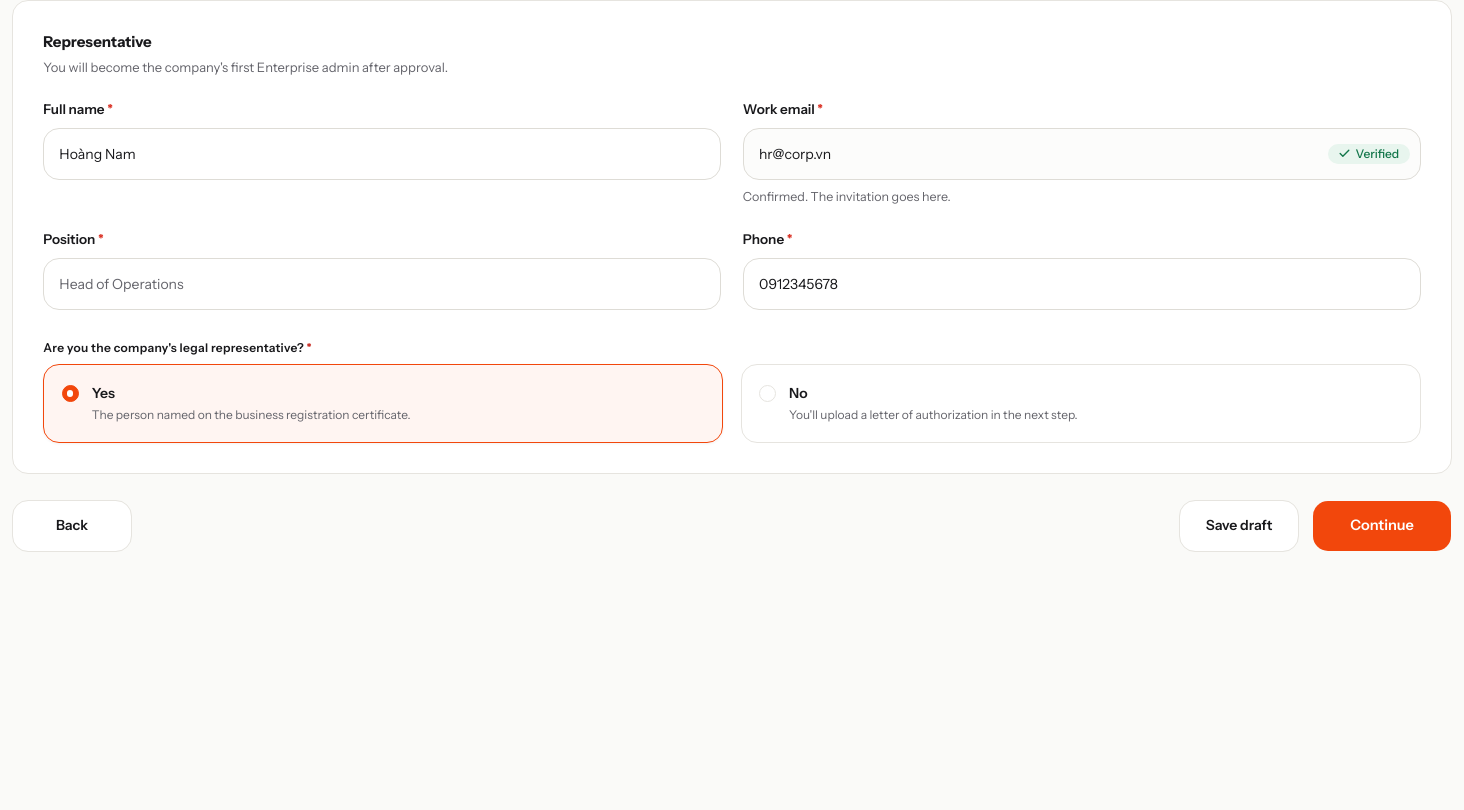
Test: Employer Registration Flow Components › Step2RepresentativeForm › toggles legal representative notice when selecting No card
Click No
Click the radio button labelled "No You'll upload a letter of authorization in the next step." at (933, 414), box x1=741 y1=364 x2=1421 y2=443
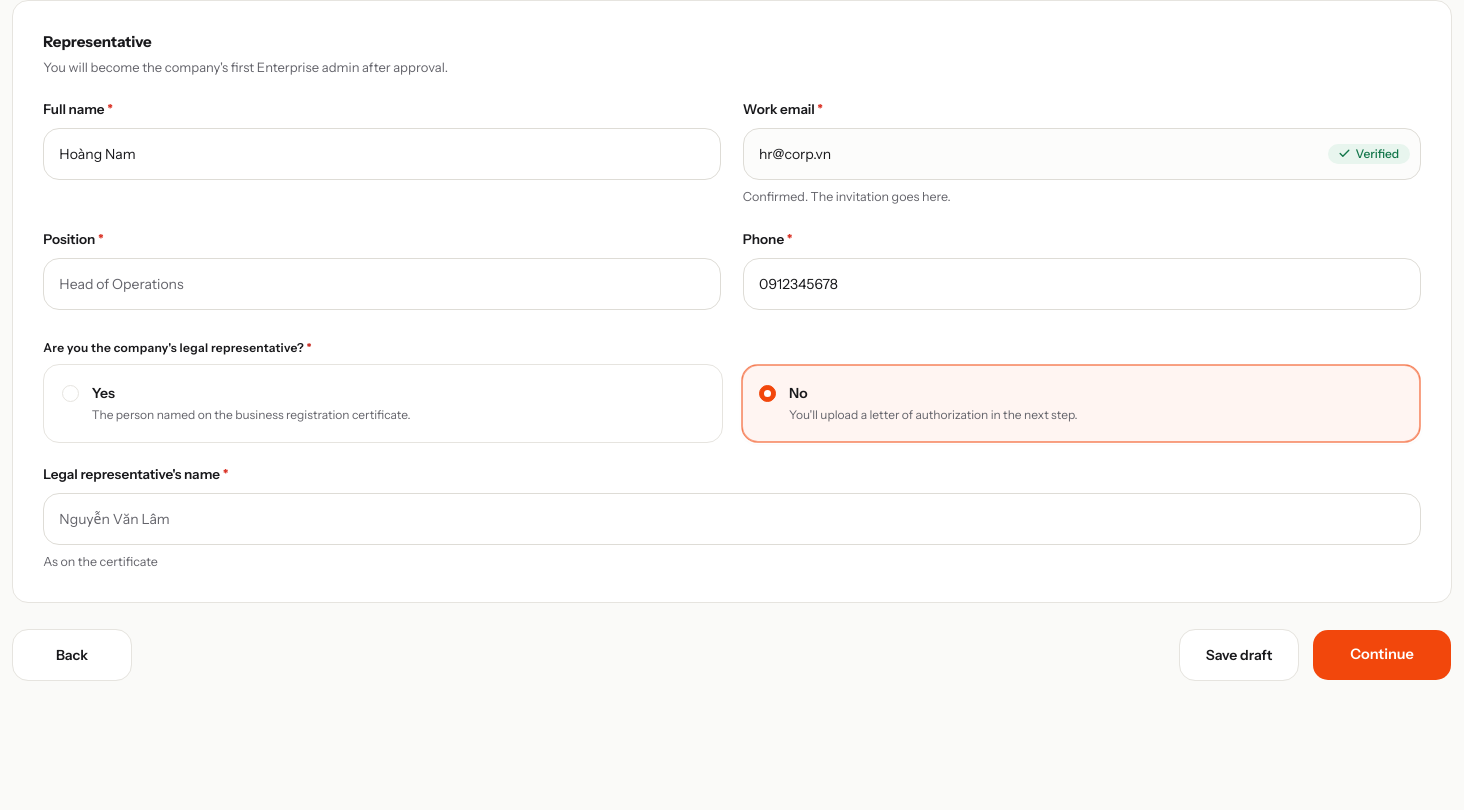
Expected: the field labelled "Legal representative's name *" is shown, x1=43 y1=493 x2=1421 y2=545
